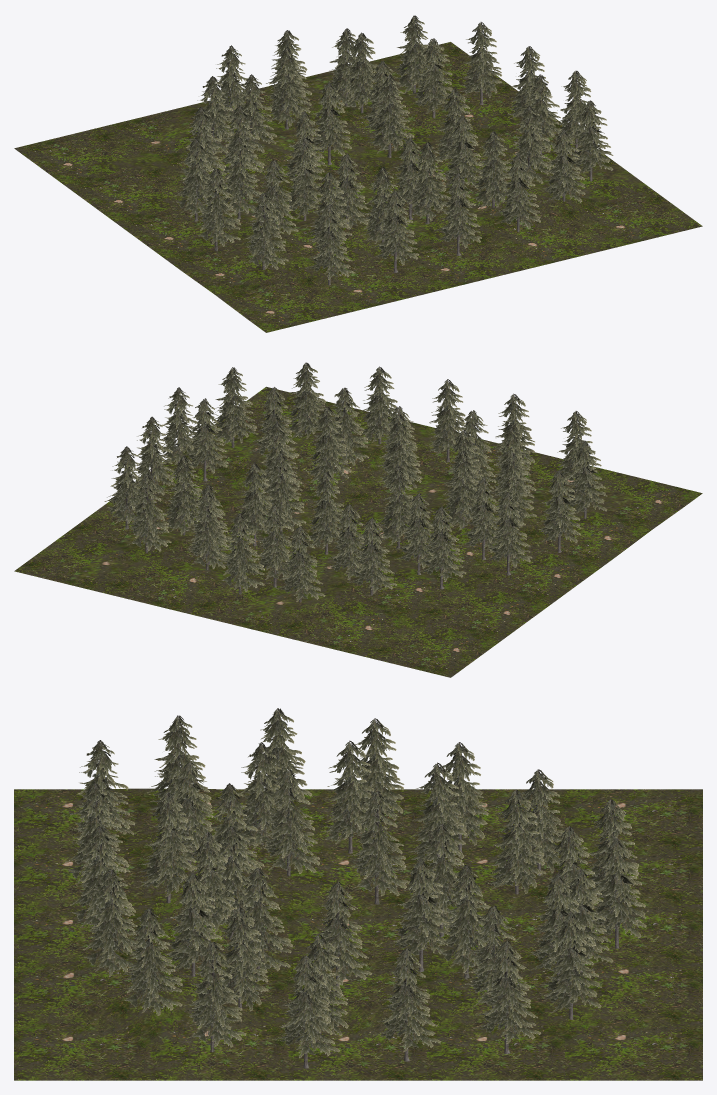
File: bosque.glb
The picture shows the model from 3 angles, top to bottom: view 1: azimuth 30°, elevation 25°; view 2: azimuth 150°, elevation 25°; view 3: azimuth 270°, elevation 25°; orthographic projection. The views are drawn at different scales.
Parts seen in each view (by area): view 1: obj1_1, pine1_0; view 2: obj1_1, pine1_0; view 3: obj1_1, pine1_0.
Part boxes in pixels (x1,y1,x2,y2): obj1_1: (14,42,702,332); pine1_0: (173,15,613,285); obj1_1: (14,386,702,677); pine1_0: (104,362,607,602); obj1_1: (14,788,702,1080); pine1_0: (63,708,646,1068).
Size of the model in its own units: 54.55 by 10.48 by 54.32.
2 materials, 2 textured.
